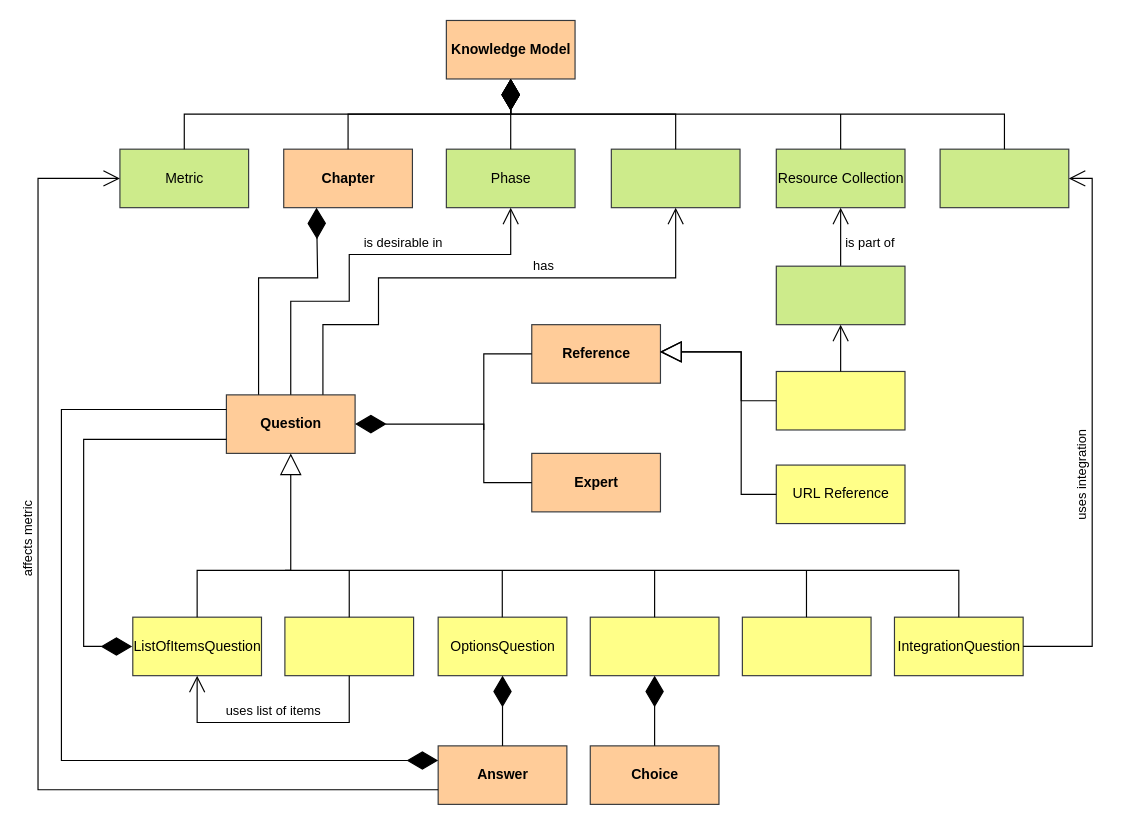
The diagram is 1129 pixels wide and 827 high, and some of its shapes have lost their labels. The shapes that lost their labels are listed below. From the top down, each one's centre as x and y in pixels, then its label:
the point at 675,178: Question Tag
the point at 1004,178: Integration
the point at 840,295: Resource Page
the point at 840,400: Resource Page Reference
the point at 349,646: ItemSelectQuestion
the point at 654,646: MultiChoiceQuestion
the point at 806,646: ValueQuestion
